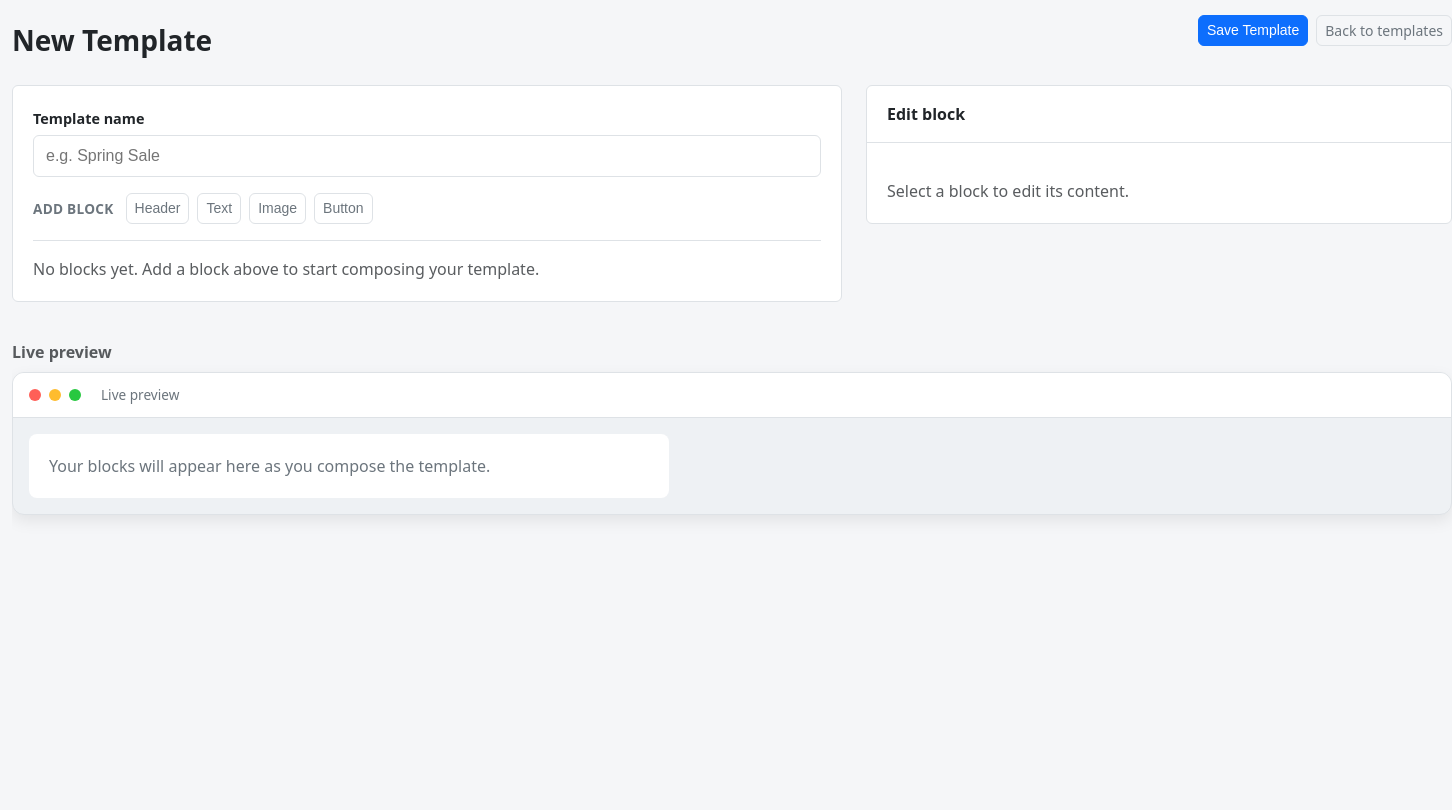
Scenario: TemplateBuilderComponent › adds a block and reflects its edits in the live preview
Click the button "Header" at (157, 209), box [126,193,189,224]
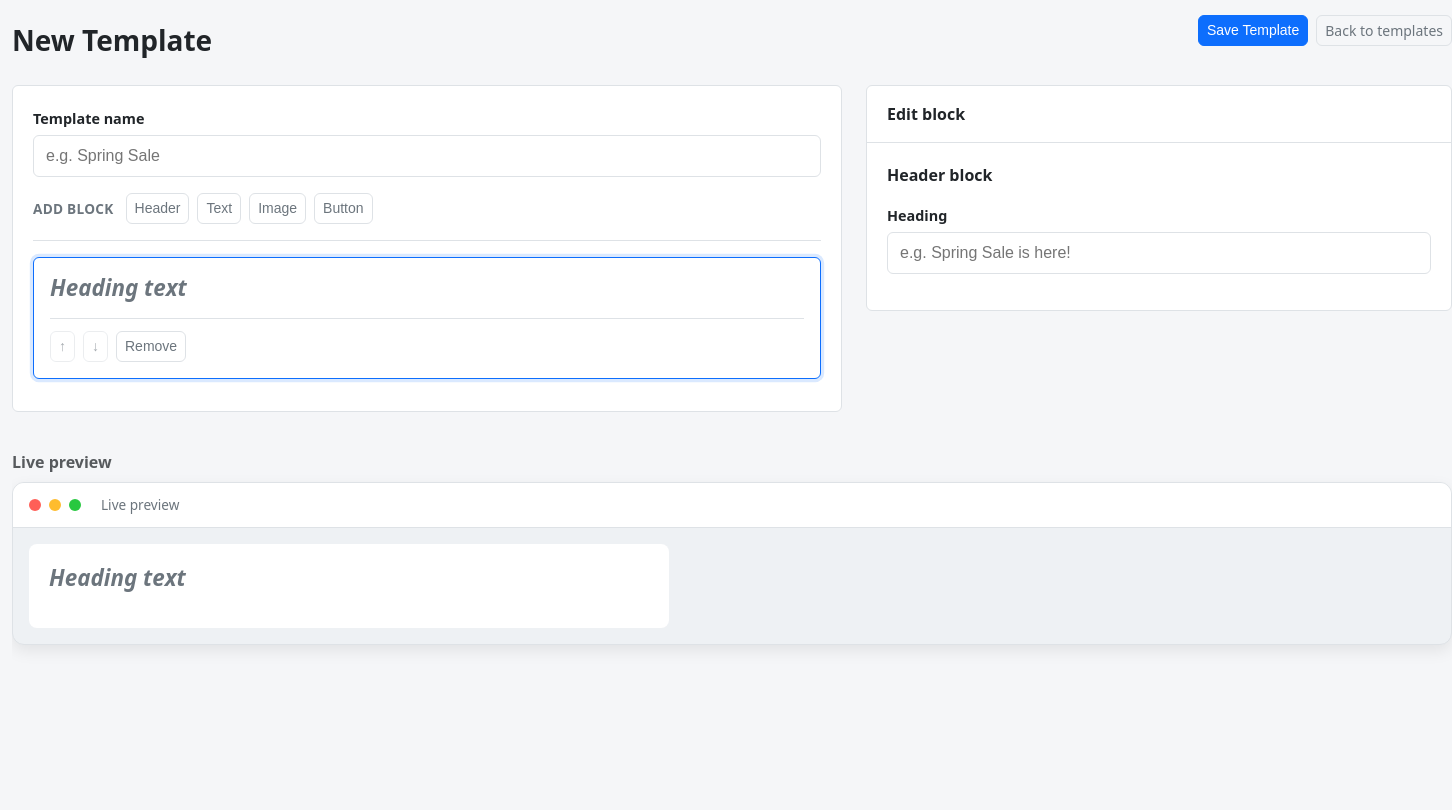
Type "Spring Sale is here" into the field with id "header-text" at (1159, 253), box [887,232,1431,274]
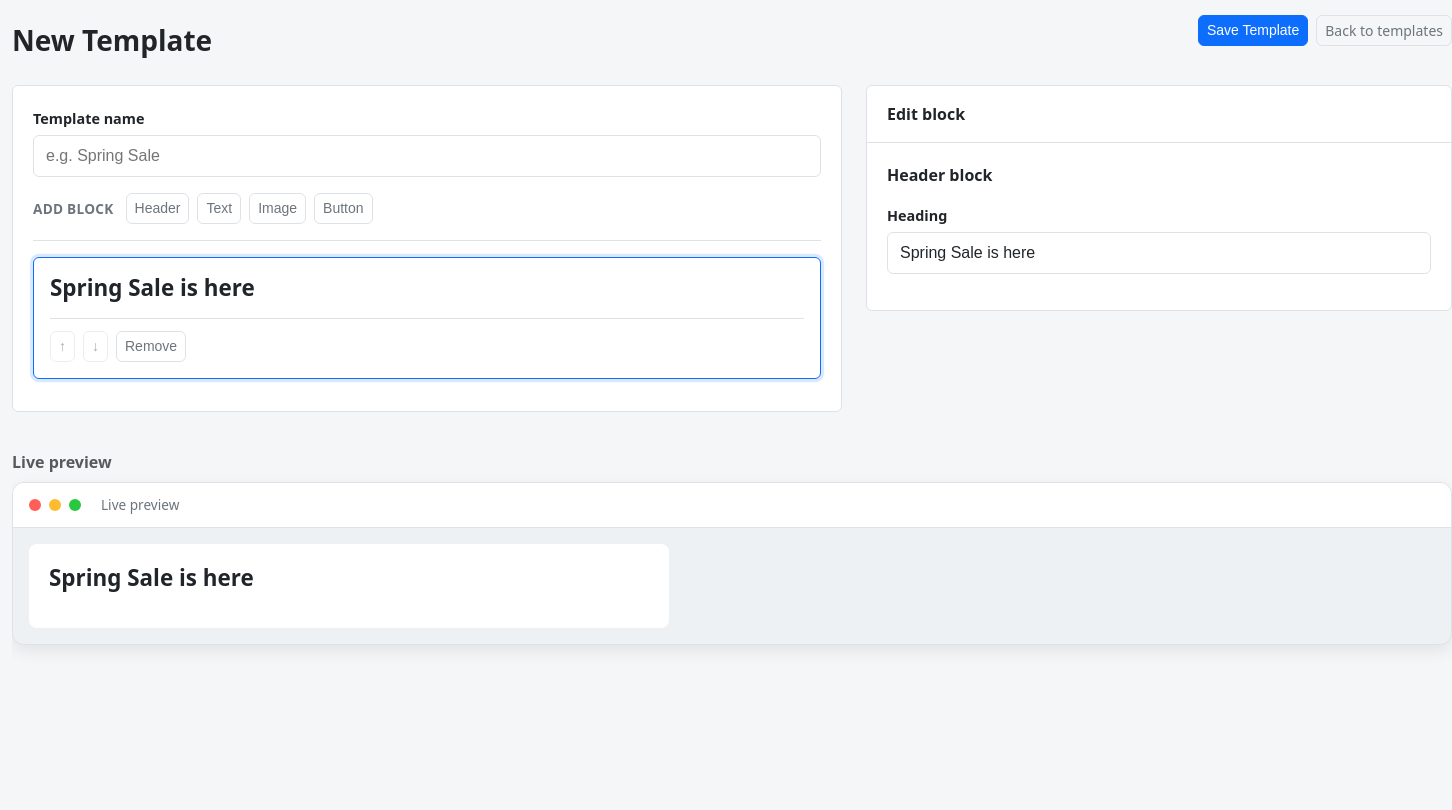
Check: the element showing "Live preview Spring Sale is here" is shown, box [12,482,1451,645]
